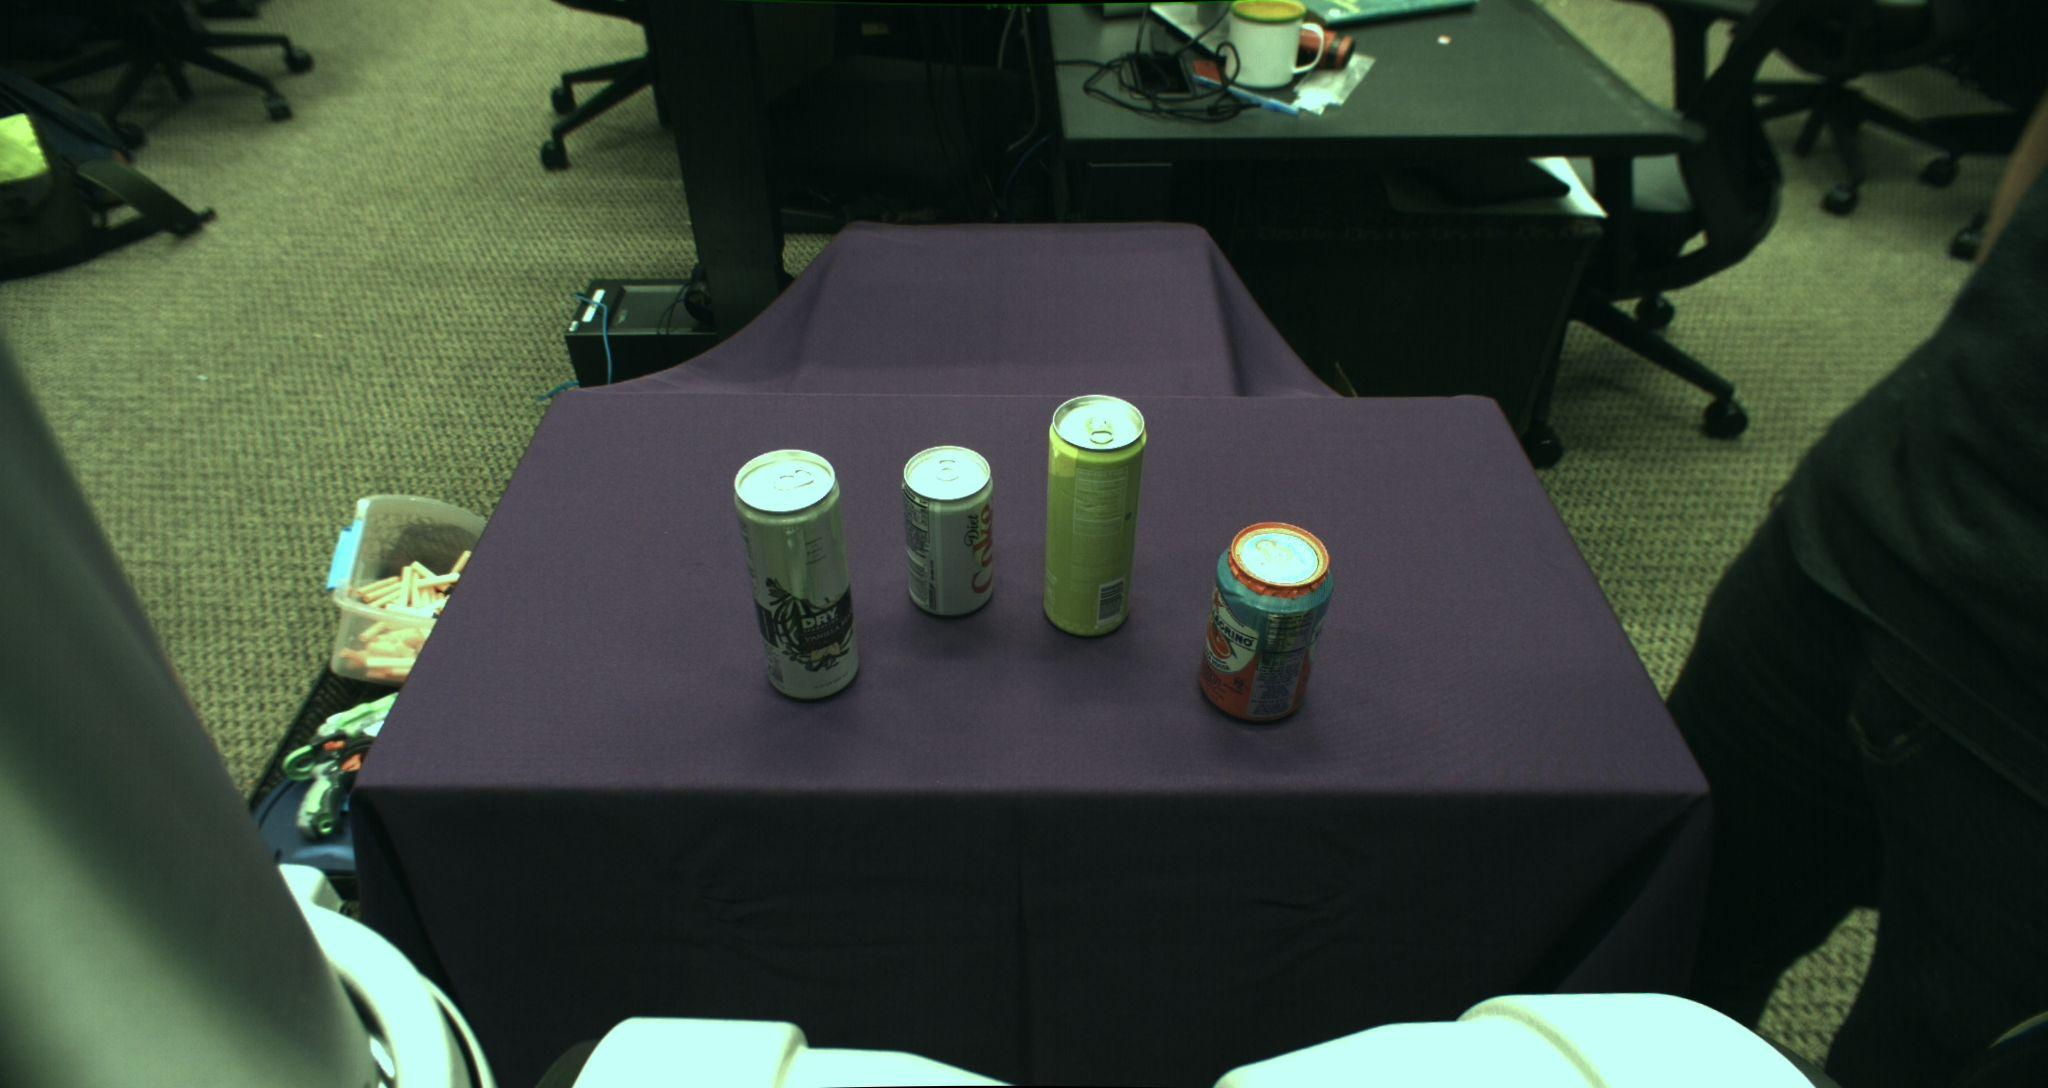can_diet_coke_small: (902, 444, 993, 616)
can_dry_sparkling_vanilla_bean: (731, 447, 860, 700)
can_izze_fusions_lemon_lime: (1042, 396, 1146, 637)
can_sanpellegrino_blood_orange: (1200, 522, 1331, 724)
